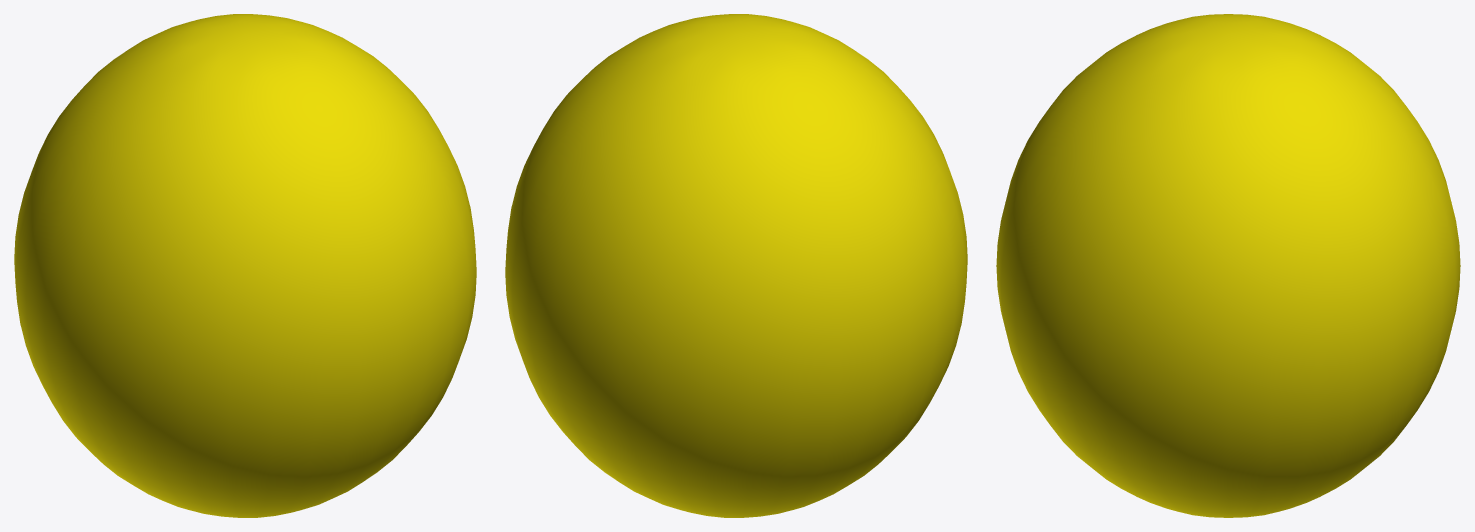
Rendered from powerorb.fbx.
3 renders of one model, left to right at view 1: azimuth 30°, elevation 25°; view 2: azimuth 150°, elevation 25°; view 3: azimuth 270°, elevation 25°, orthographic.
Parts seen in each view (by area): view 1: pSphere2; view 2: pSphere2; view 3: pSphere2.
Part boxes in pixels (<box>): pSphere2: <box>14,14,476,517</box>; pSphere2: <box>505,14,967,517</box>; pSphere2: <box>996,14,1460,517</box>.
Bounding box in the file's own units: 1.77 × 1.96 × 1.77.
